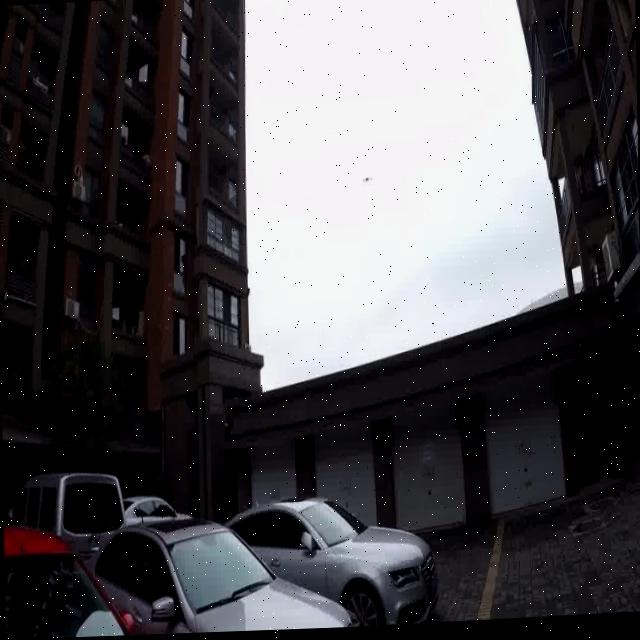drone: (352, 152, 372, 198)
